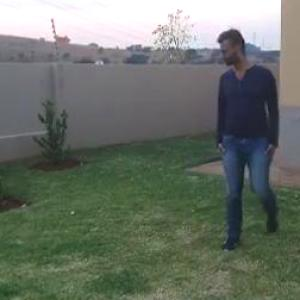follow: (198, 17, 282, 268)
